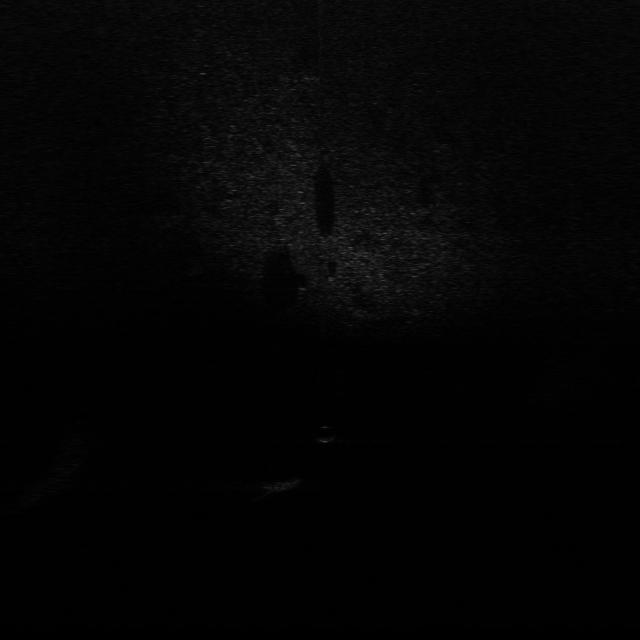ball: (311, 422, 343, 447)
square cage: (256, 471, 306, 494)
